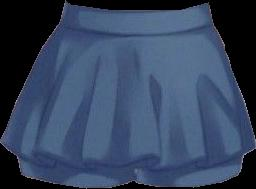Hemline: (0, 140, 255, 172), (19, 170, 239, 188)
Waistline: (64, 0, 209, 12), (59, 23, 212, 34)
